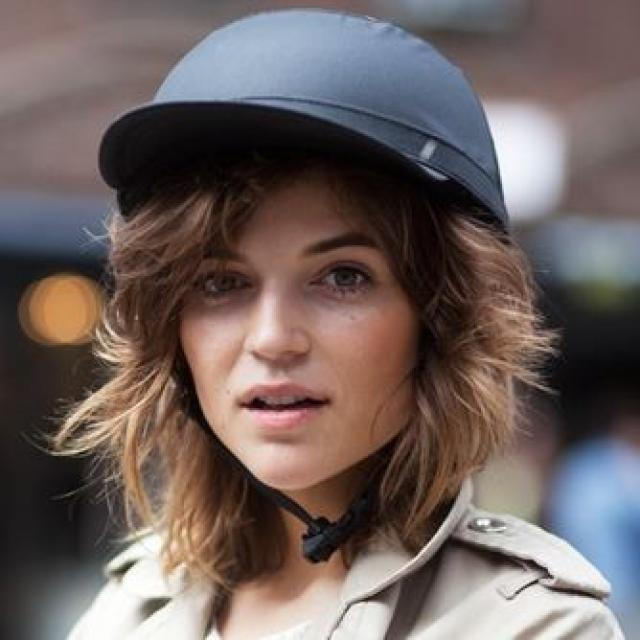Helmet: (100, 9, 514, 492)
